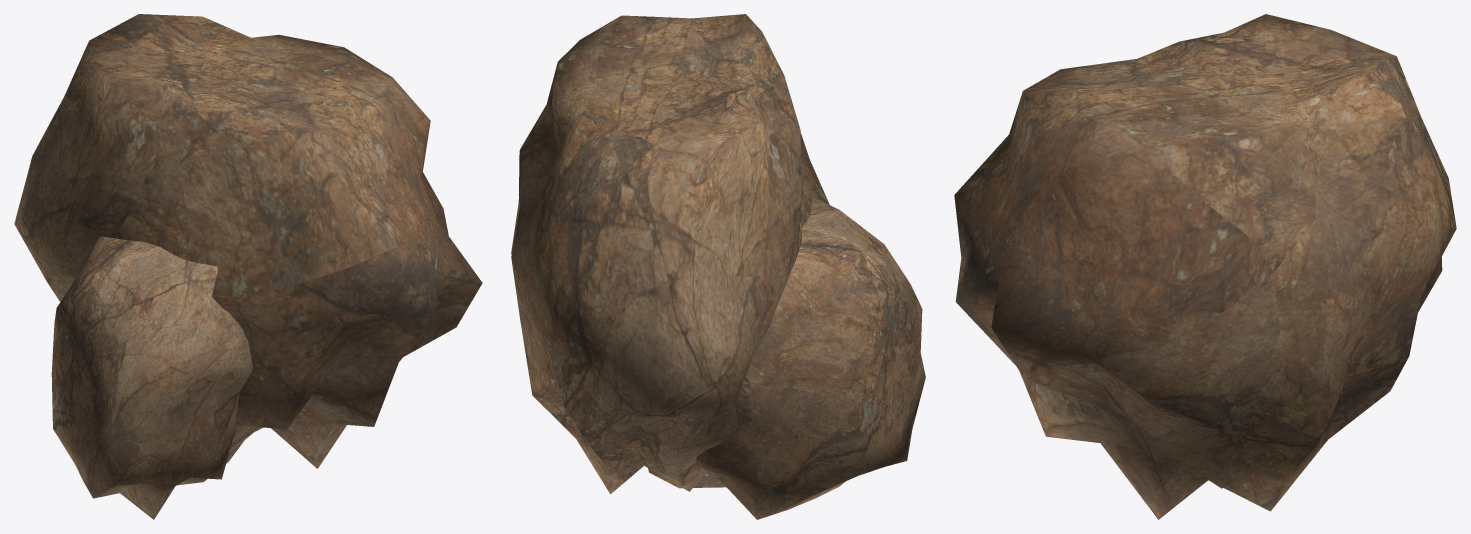
Rendered from rock_2.glb.
The picture shows the model from 3 angles, left to right: view 1: azimuth 30°, elevation 25°; view 2: azimuth 150°, elevation 25°; view 3: azimuth 270°, elevation 25°; orthographic projection. The views are drawn at different scales.
Visible parts, largest first — view 1: BoulderB; view 2: BoulderB; view 3: BoulderB.
Part boxes in pixels (x1,y1,x2,y2): BoulderB: (14,14,482,519); BoulderB: (511,14,925,519); BoulderB: (954,14,1456,519).
Size of the model in its own units: 1.36 by 1.47 by 1.58.
1 material, 1 textured.
